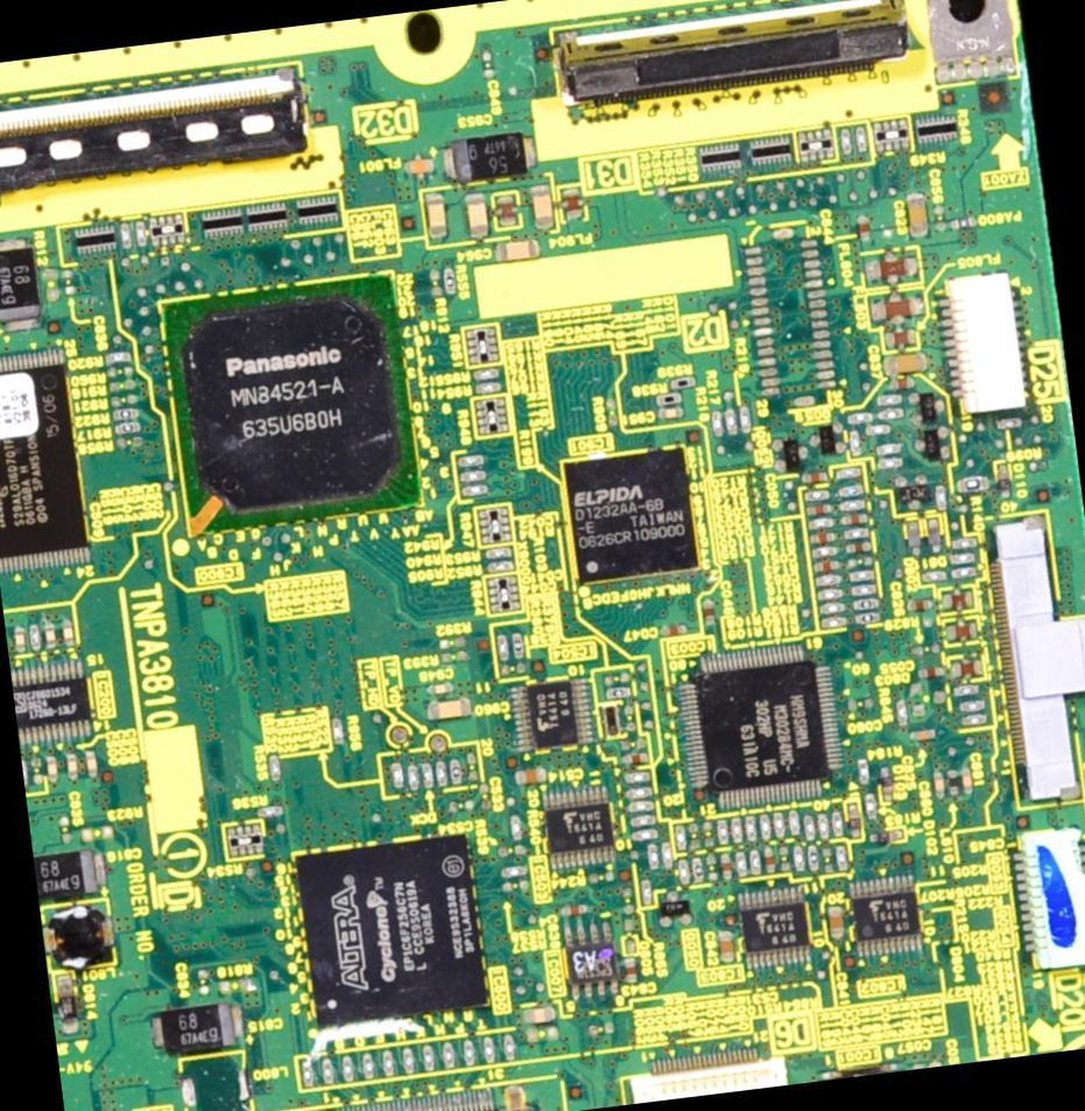Capacitor: (147, 999, 253, 1060), (439, 133, 540, 181), (0, 231, 42, 327), (33, 848, 108, 899), (880, 349, 932, 381), (905, 189, 934, 246), (421, 189, 451, 242), (423, 696, 475, 726), (463, 190, 490, 243), (531, 183, 558, 233), (491, 238, 540, 262), (517, 1006, 560, 1032), (824, 904, 846, 940), (932, 200, 950, 239), (717, 929, 737, 964), (58, 618, 79, 651), (55, 814, 76, 845), (12, 624, 30, 660), (445, 798, 477, 818), (515, 766, 548, 785), (192, 967, 212, 998), (133, 217, 150, 253), (81, 745, 99, 779), (40, 623, 61, 652), (476, 784, 495, 816), (424, 681, 458, 698), (908, 726, 938, 745), (902, 596, 935, 613), (118, 218, 134, 253), (717, 852, 735, 883), (701, 597, 718, 629), (63, 753, 80, 785), (657, 406, 687, 424), (960, 765, 976, 798), (839, 510, 868, 528), (931, 773, 949, 802), (856, 215, 875, 242), (800, 469, 830, 486), (623, 956, 640, 986), (58, 267, 76, 295), (654, 622, 687, 637), (620, 753, 650, 769), (763, 845, 778, 877), (808, 530, 839, 545), (842, 539, 873, 554), (917, 665, 945, 681), (803, 504, 834, 518), (810, 559, 841, 573), (45, 755, 59, 786), (908, 1061, 928, 1069)
Connector: (544, 0, 919, 107), (0, 66, 311, 187), (991, 511, 1084, 815), (943, 274, 1040, 418), (1007, 818, 1084, 977), (620, 1042, 789, 1104)
IC: (159, 274, 421, 536), (288, 828, 492, 1032), (669, 644, 849, 808), (0, 348, 97, 576), (563, 450, 703, 588), (10, 661, 91, 753), (539, 778, 615, 871), (506, 674, 593, 753), (738, 887, 815, 975), (848, 875, 926, 958), (554, 917, 617, 1000), (814, 1061, 899, 1081)
Resistor: (739, 813, 764, 845), (80, 822, 115, 844), (42, 268, 62, 306), (955, 475, 991, 496), (524, 1026, 565, 1043), (388, 759, 406, 797), (24, 623, 44, 657), (218, 977, 251, 997), (404, 758, 423, 792), (495, 629, 512, 666), (816, 600, 850, 618), (463, 749, 480, 785), (441, 263, 459, 296), (456, 468, 489, 486), (772, 809, 790, 842), (846, 427, 865, 458), (785, 805, 804, 836), (853, 123, 870, 157), (467, 367, 501, 384), (455, 450, 485, 469), (712, 819, 731, 849), (331, 716, 348, 749), (931, 482, 951, 510), (602, 670, 634, 687), (875, 455, 905, 473), (834, 465, 864, 483), (958, 710, 988, 728), (856, 758, 874, 788), (501, 864, 531, 882), (703, 852, 721, 882), (802, 488, 835, 504), (470, 380, 501, 397), (912, 641, 943, 658), (267, 752, 284, 783), (800, 813, 817, 844), (806, 841, 821, 876), (877, 405, 906, 423), (790, 843, 808, 872), (832, 842, 850, 871), (618, 884, 636, 913), (447, 755, 463, 787), (837, 123, 854, 153), (645, 842, 662, 872), (732, 850, 749, 880), (710, 406, 726, 437), (425, 270, 442, 299), (107, 380, 136, 397), (864, 420, 893, 437), (893, 699, 910, 728), (757, 811, 774, 840), (747, 848, 764, 877), (652, 392, 682, 408), (725, 406, 740, 438), (484, 559, 516, 574), (625, 785, 655, 801), (728, 814, 744, 844), (99, 353, 133, 367), (736, 405, 753, 433), (815, 589, 843, 606), (509, 630, 526, 658), (818, 844, 835, 872), (108, 394, 139, 409), (441, 649, 470, 665), (864, 793, 880, 822), (688, 857, 704, 886), (852, 596, 879, 613), (811, 571, 841, 586), (419, 760, 434, 790), (700, 819, 715, 849), (440, 635, 468, 651), (958, 698, 986, 714), (105, 366, 134, 381), (951, 684, 980, 699), (846, 569, 877, 583), (839, 498, 866, 514), (671, 377, 696, 394), (874, 394, 902, 409), (951, 536, 979, 551), (950, 566, 980, 580), (818, 614, 848, 628), (30, 756, 44, 786), (622, 706, 637, 734), (624, 770, 652, 785), (675, 858, 690, 886), (626, 800, 658, 813), (461, 483, 490, 497), (849, 582, 878, 596), (603, 686, 632, 700), (505, 879, 532, 894), (627, 815, 658, 828), (485, 546, 513, 560), (660, 841, 674, 869), (255, 805, 285, 818), (687, 822, 702, 848), (829, 812, 844, 838), (779, 842, 792, 872), (810, 545, 837, 559), (949, 552, 978, 565), (846, 411, 872, 425), (809, 516, 835, 530), (631, 829, 659, 842), (845, 556, 875, 568), (437, 760, 449, 790), (817, 814, 830, 841), (638, 880, 652, 905), (854, 611, 880, 624), (921, 572, 945, 586), (673, 825, 686, 850), (118, 420, 141, 434), (873, 443, 899, 455), (834, 483, 860, 495), (112, 408, 140, 419), (21, 757, 31, 786), (843, 528, 868, 539), (5, 630, 12, 657)
Transistor/Diode: (804, 419, 852, 460), (915, 427, 956, 467), (892, 474, 931, 512), (906, 389, 946, 425), (770, 434, 806, 474)
